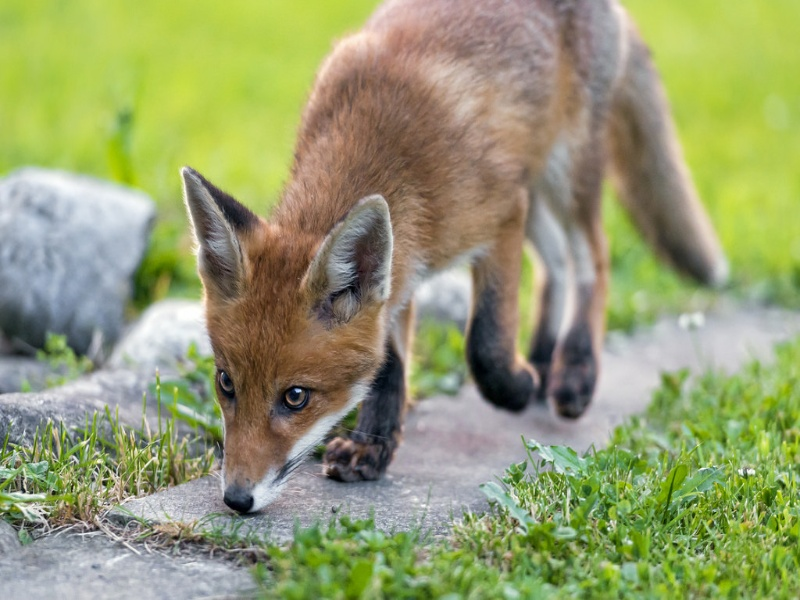fox: (180, 1, 733, 522)
